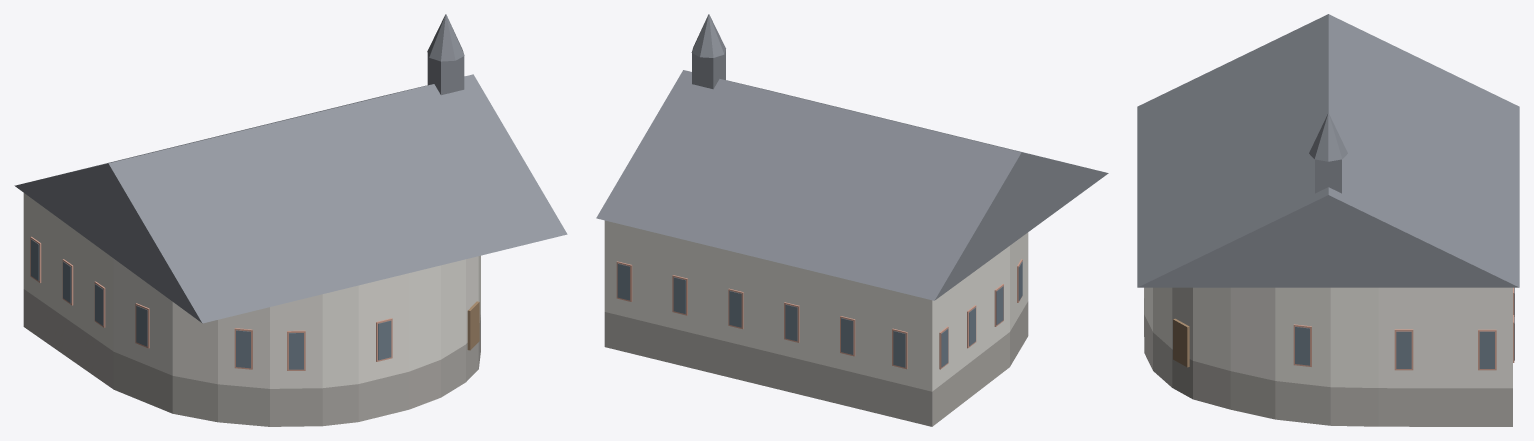
Rendered from kandern-bfa-kapelle.glb.
3 renders of one model, left to right at view 1: azimuth 30°, elevation 25°; view 2: azimuth 150°, elevation 25°; view 3: azimuth 270°, elevation 25°, orthographic. The views are drawn at different scales.
Visible parts, largest first — view 1: building; view 2: building; view 3: building.
Boxes of the visible parts, x1,y1,x2,y2 form: building: [14, 14, 567, 426]; building: [596, 14, 1108, 426]; building: [1137, 14, 1519, 426].
Size of the model in its own units: 25.12 by 19.6 by 22.43.
